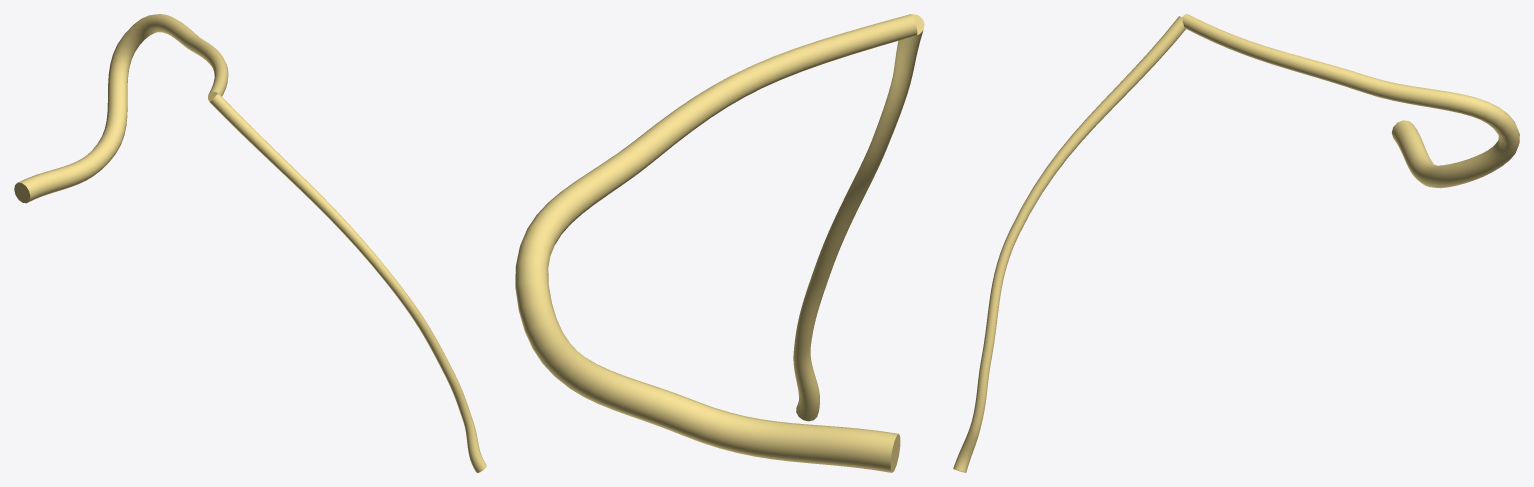
3 views of the same model, side by side, from view 1: azimuth 30°, elevation 25°; view 2: azimuth 150°, elevation 25°; view 3: azimuth 270°, elevation 25° (orthographic). The views are drawn at different scales.
Parts seen in each view (by area): view 1: ZA_7c289f82d93d8d34; view 2: ZA_7c289f82d93d8d34; view 3: ZA_7c289f82d93d8d34.
Part boxes in pixels (x1,y1,x2,y2): ZA_7c289f82d93d8d34: (14, 14, 486, 472); ZA_7c289f82d93d8d34: (515, 14, 924, 472); ZA_7c289f82d93d8d34: (953, 14, 1519, 472).
Size of the model in its own units: 0.0187 by 0.0235 by 0.0323.
